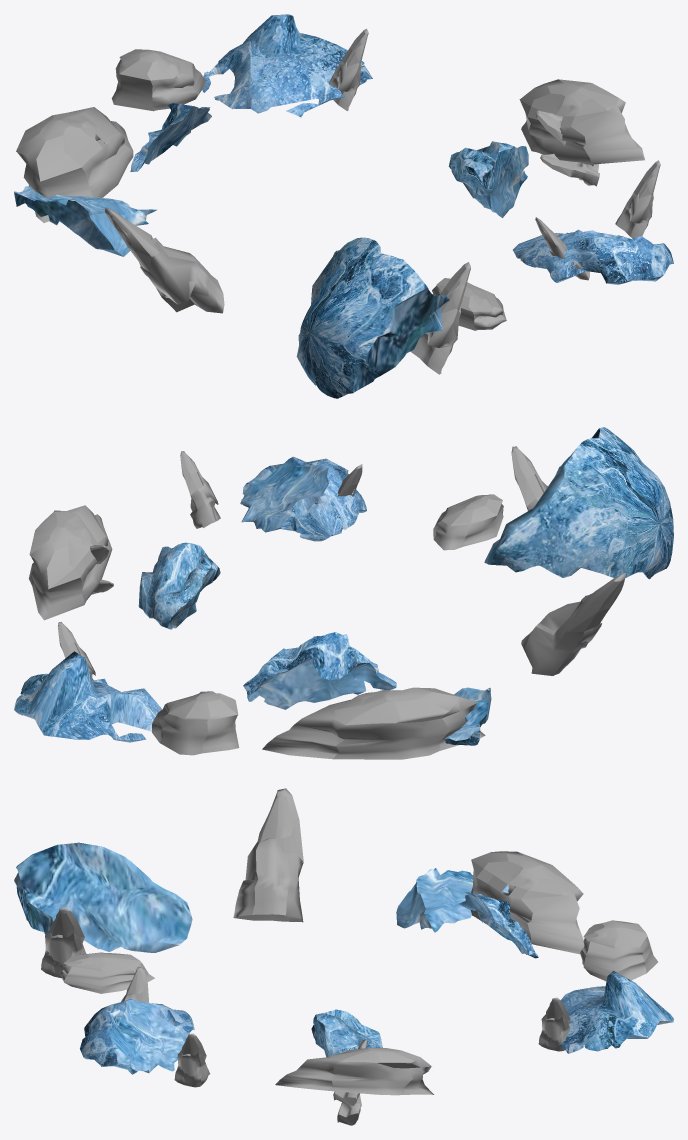
The model's file is suishi.fbx.
3 renders of one model, top to bottom at view 1: azimuth 30°, elevation 25°; view 2: azimuth 150°, elevation 25°; view 3: azimuth 270°, elevation 25°, orthographic. The views are drawn at different scales.
Parts seen in each view (by area): view 1: pasted__shard12, pasted__shard17, pCube16, pCube19, pasted__shard9, pCube18, pCube12, pasted__shard5, pasted__shard6, pCube27, pasted__shard18, pCube8 (+4 smaller); view 2: pasted__shard12, pCube16, pasted__shard17, pasted__shard9, pasted__shard18, pCube19, pCube18, pasted__shard6, pCube12, pCube8, pCube25, pasted__shard5 (+2 smaller); view 3: pasted__shard12, pCube16, pasted__shard9, pCube18, pasted__shard17, pCube19, pCube12, pasted__shard5, pCube8, pasted__shard6, pCube27, pasted__shard18 (+3 smaller).
Boxes of the visible parts, x1,y1,x2,y2 form: pasted__shard12: [296, 237, 449, 398]; pasted__shard17: [202, 14, 372, 117]; pCube16: [16, 107, 133, 222]; pCube19: [519, 79, 644, 164]; pasted__shard9: [513, 229, 673, 284]; pCube18: [105, 207, 224, 313]; pCube12: [111, 49, 206, 111]; pasted__shard5: [14, 186, 156, 256]; pasted__shard6: [448, 141, 528, 217]; pCube27: [410, 262, 470, 374]; pasted__shard18: [130, 103, 211, 171]; pCube8: [432, 278, 506, 330]; pasted__shard12: [484, 427, 673, 579]; pCube16: [262, 687, 485, 759]; pasted__shard17: [14, 651, 162, 742]; pasted__shard9: [240, 456, 366, 541]; pasted__shard18: [243, 632, 396, 709]; pCube19: [28, 505, 112, 620]; pCube18: [521, 573, 626, 675]; pasted__shard6: [138, 542, 220, 629]; pCube12: [152, 691, 239, 755]; pCube8: [433, 494, 503, 550]; pCube25: [180, 451, 220, 528]; pasted__shard5: [444, 687, 491, 745]; pasted__shard12: [14, 842, 192, 952]; pCube16: [470, 851, 584, 954]; pasted__shard9: [80, 999, 194, 1074]; pCube18: [233, 788, 303, 922]; pasted__shard17: [558, 970, 673, 1053]; pCube19: [275, 1048, 433, 1095]; pCube12: [580, 920, 657, 981]; pasted__shard5: [396, 868, 508, 932]; pCube8: [59, 952, 154, 993]; pasted__shard6: [311, 1009, 382, 1057]; pCube27: [41, 907, 86, 978]; pasted__shard18: [458, 891, 538, 958].
Bounding box in the file's own units: 2.24 × 0.5828 × 2.67.
2 materials, 1 textured.
